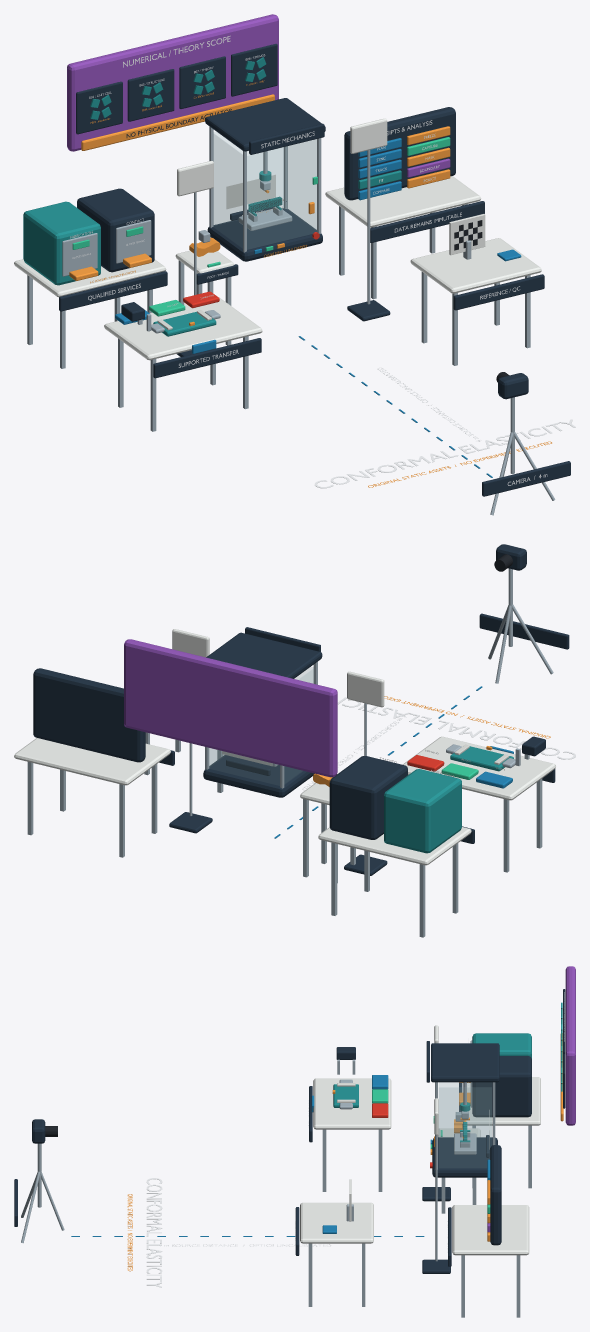
File: conformal_lab.glb
3 views of the same model, one above another, from view 1: azimuth 30°, elevation 25°; view 2: azimuth 150°, elevation 25°; view 3: azimuth 270°, elevation 25° (orthographic). The views are drawn at different scales.
Parts seen in each view (by area): view 1: symbolic.board, tester.front_guard, storage.table.top, service.fabrication_shell, calibration.table.top, analysis.table.top, analysis.console_body, tester.roof, service.contact_shell, tester.base, tester.rear_guard, tester.side_guard-0.355 (+24 smaller); view 2: symbolic.board, analysis.console_body, service.fabrication_shell, service.contact_shell, analysis.table.top, tester.roof, storage.table.top, tester.base, service.table.top, tester.rear_guard, camera.label.back, lighting.left_panel (+10 smaller); view 3: tester.side_guard0.355, analysis.table.top, service.contact_shell, calibration.table.top, storage.table.top, tester.roof, tester.side_guard-0.355, tester.base, symbolic.board, analysis.console_body, service.table.top, service.fabrication_shell (+2 smaller).
Boxes of the visible parts, x1,y1,x2,y2 form: symbolic.board: [67, 14, 278, 151]; tester.front_guard: [247, 139, 316, 249]; storage.table.top: [104, 297, 262, 360]; service.fabrication_shell: [23, 201, 100, 285]; calibration.table.top: [410, 238, 541, 293]; analysis.table.top: [325, 176, 480, 227]; analysis.console_body: [344, 107, 455, 200]; tester.roof: [205, 98, 325, 151]; service.contact_shell: [77, 188, 154, 272]; tester.base: [207, 208, 322, 261]; tester.rear_guard: [214, 132, 283, 225]; tester.side_guard-0.355: [213, 133, 242, 247]; symbolic.board: [124, 639, 337, 777]; analysis.console_body: [33, 668, 145, 762]; service.fabrication_shell: [384, 769, 461, 853]; service.contact_shell: [329, 756, 407, 839]; analysis.table.top: [14, 738, 170, 785]; tester.roof: [206, 632, 322, 678]; storage.table.top: [402, 736, 555, 800]; tester.base: [203, 755, 314, 797]; service.table.top: [318, 827, 471, 865]; tester.rear_guard: [209, 748, 279, 785]; camera.label.back: [479, 613, 569, 649]; lighting.left_panel: [347, 671, 384, 707]; tester.side_guard0.355: [439, 1087, 491, 1167]; analysis.table.top: [452, 1205, 529, 1255]; service.contact_shell: [472, 1056, 531, 1117]; calibration.table.top: [300, 1202, 373, 1243]; storage.table.top: [313, 1078, 391, 1129]; tester.roof: [431, 1043, 499, 1082]; tester.side_guard-0.355: [439, 1082, 491, 1136]; tester.base: [432, 1137, 497, 1177]; symbolic.board: [565, 966, 575, 1125]; analysis.console_body: [490, 1145, 501, 1245]; service.table.top: [466, 1077, 540, 1125]; service.fabrication_shell: [472, 1033, 531, 1058].
Bounding box in the file's own units: 4.06 × 2.28 × 5.48.
